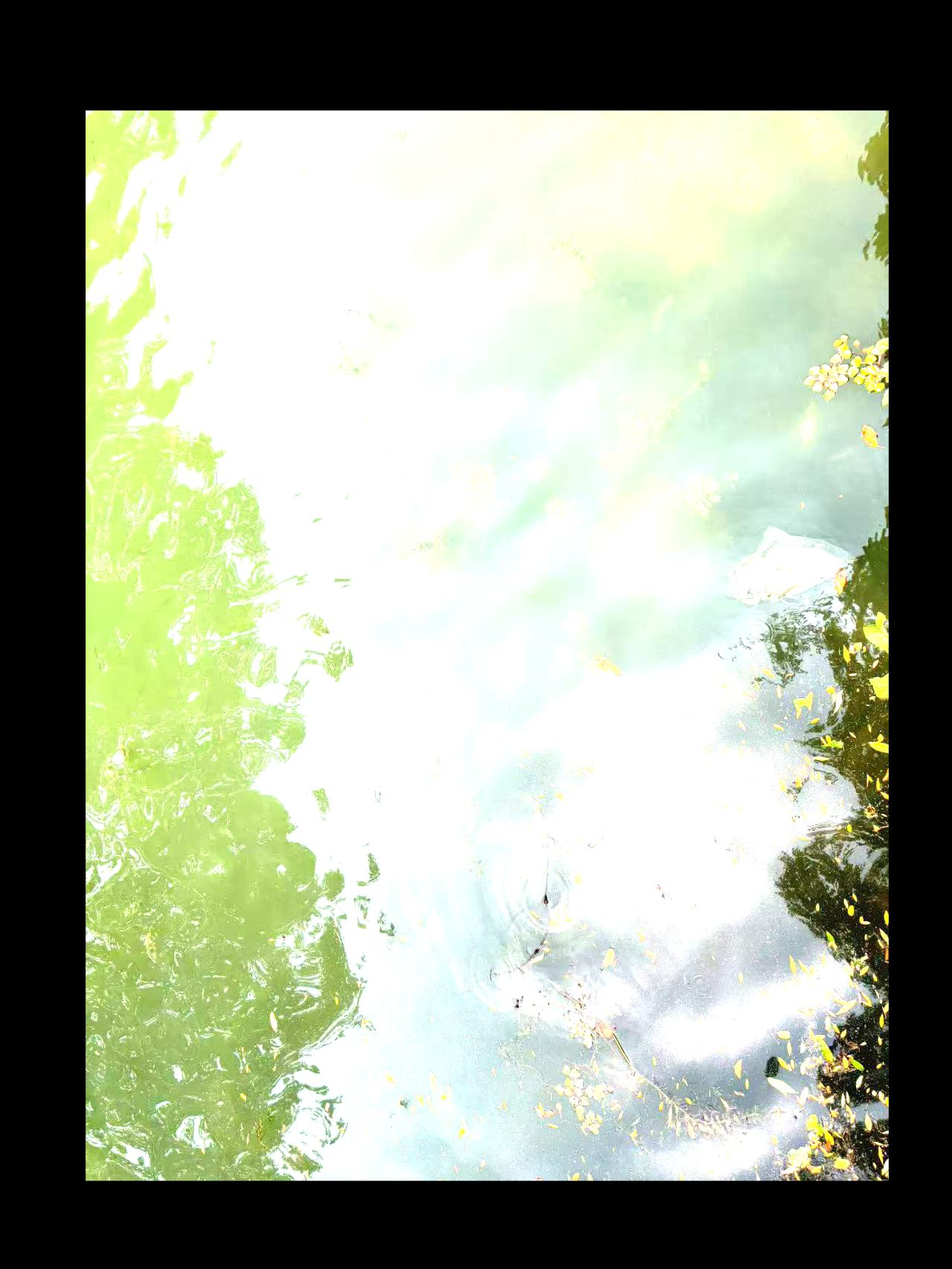Plastic wastes: (724, 535, 855, 602)
